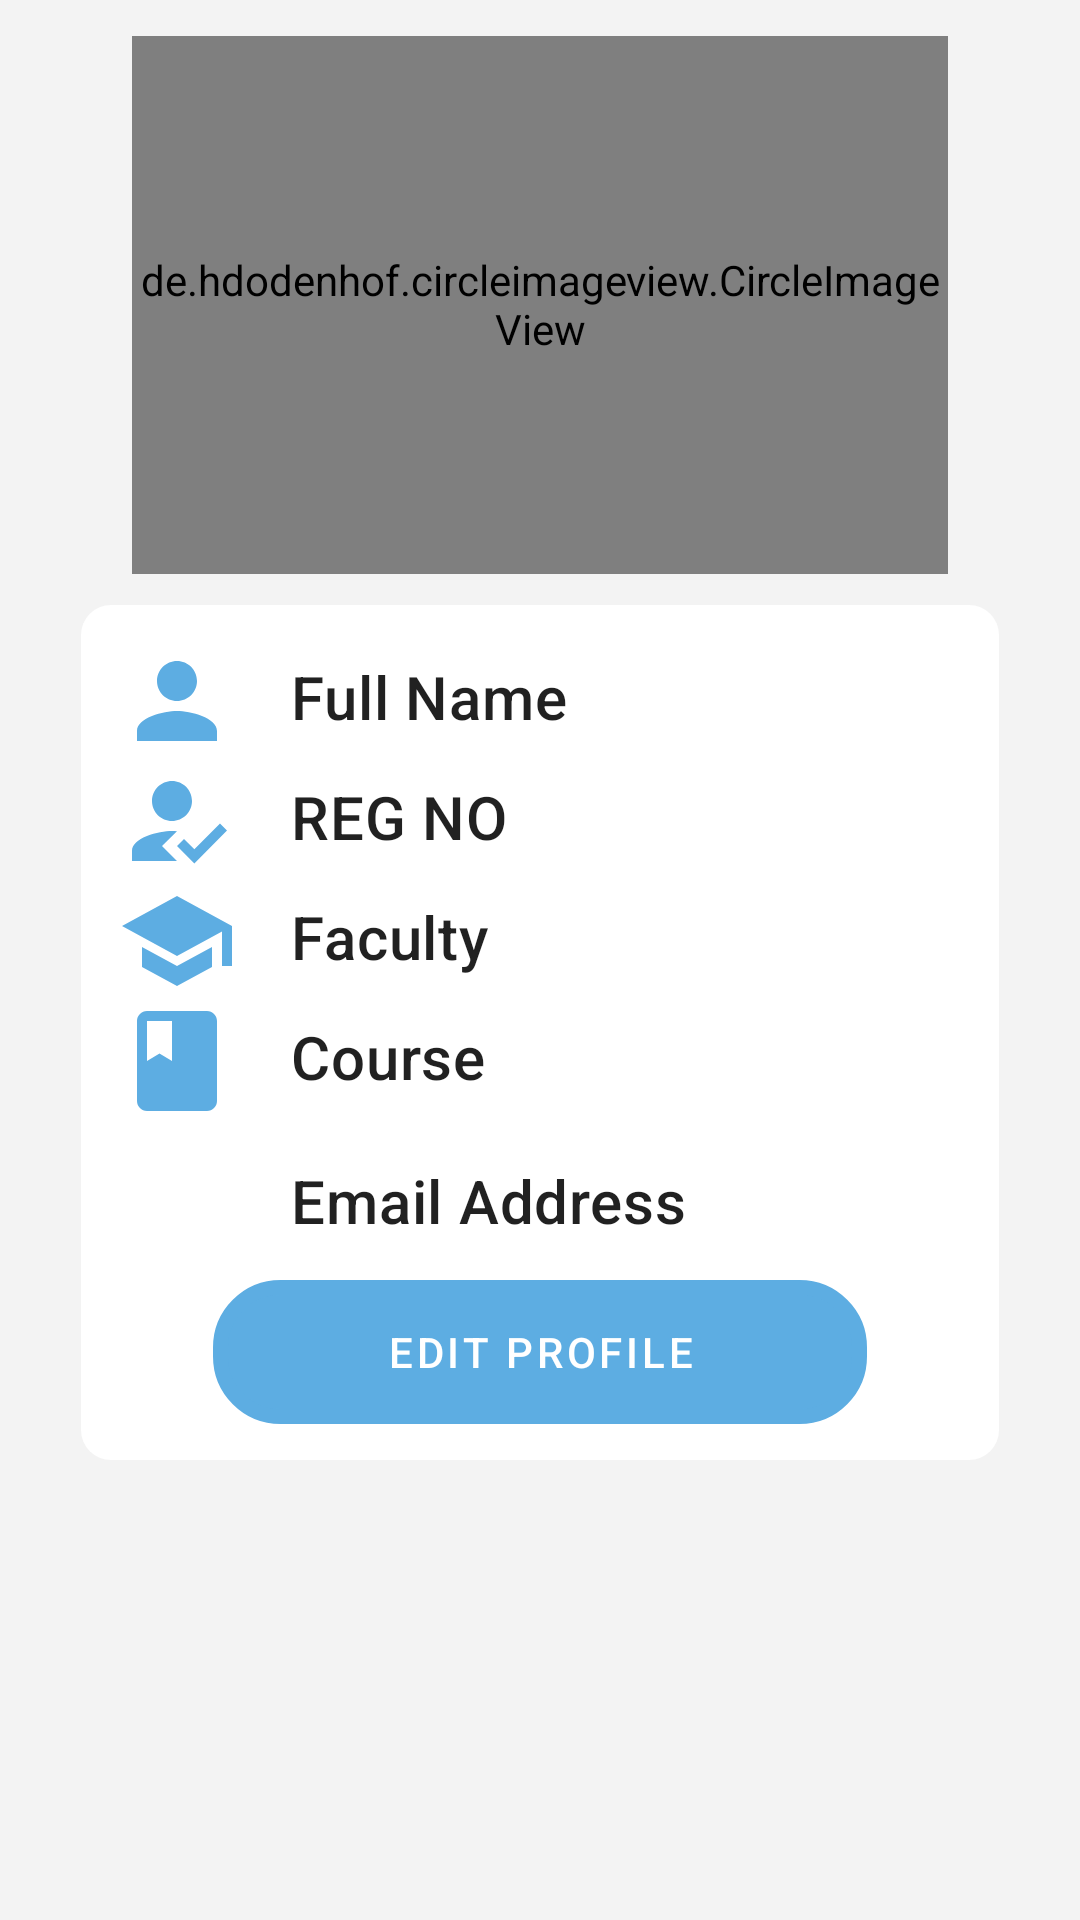

Icon bounding boxes for this 1080x1920 phone screenshot, format rect(x1, y1, x2, y2):
person: rect(137, 661, 217, 741)
school: rect(122, 896, 232, 986)
